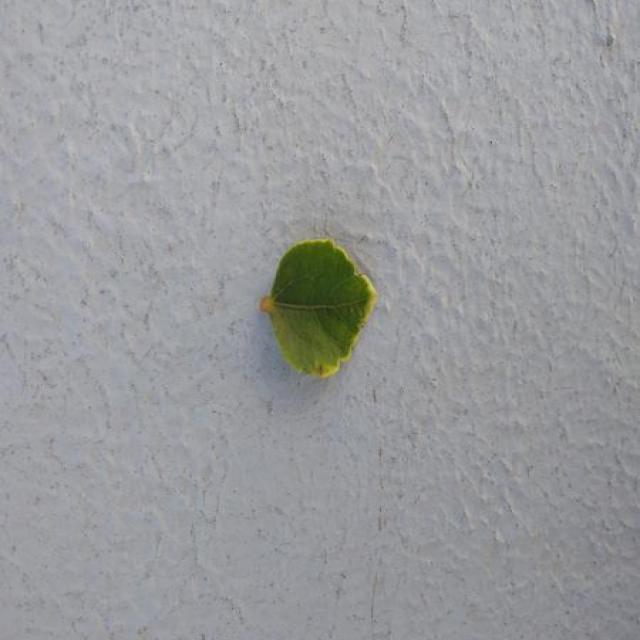leaf: (258, 237, 377, 378)
